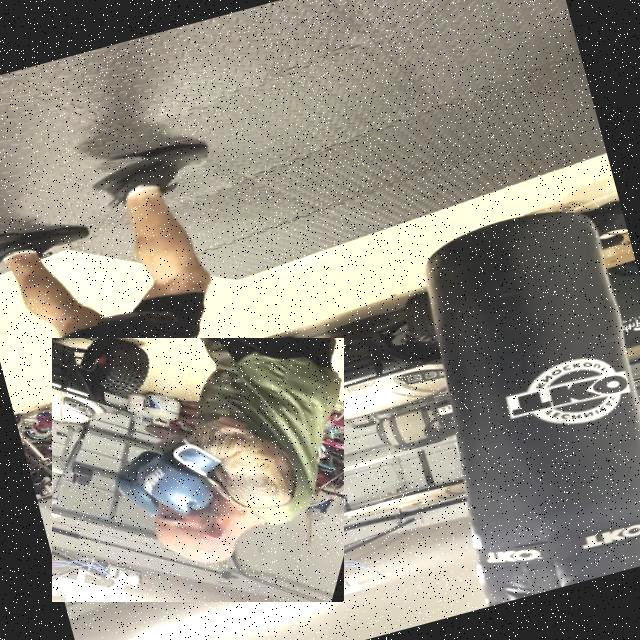punch: (52, 338, 344, 602)
